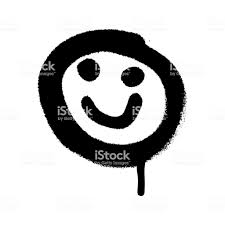feliz: (26, 23, 194, 188), (73, 56, 155, 132)
